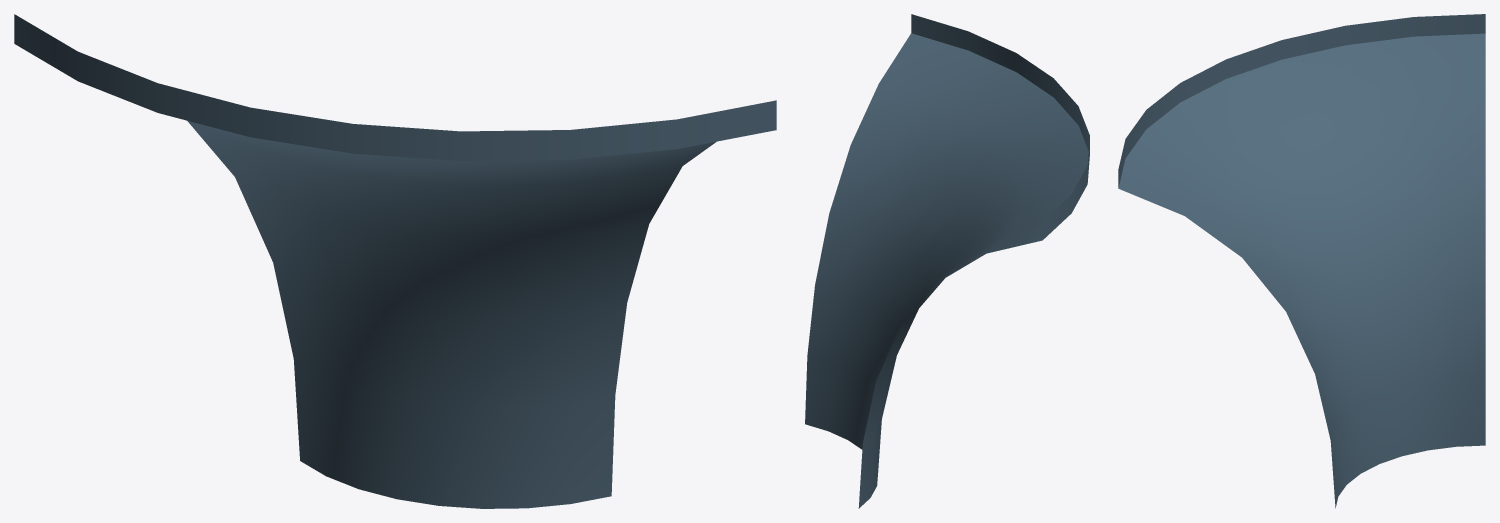
Rendered from W1_WallCornerS_Round1_TopCurvedA.fbx.
3 views of the same model, side by side, from view 1: azimuth 30°, elevation 25°; view 2: azimuth 150°, elevation 25°; view 3: azimuth 270°, elevation 25° (orthographic). The views are drawn at different scales.
Parts seen in each view (by area): view 1: W1_WallCornerS_Round1_TopCurvedA.001; view 2: W1_WallCornerS_Round1_TopCurvedA.001; view 3: W1_WallCornerS_Round1_TopCurvedA.001.
Boxes of the visible parts, x1,y1,x2,y2 form: W1_WallCornerS_Round1_TopCurvedA.001: (14, 14, 776, 508); W1_WallCornerS_Round1_TopCurvedA.001: (805, 14, 1089, 508); W1_WallCornerS_Round1_TopCurvedA.001: (1118, 14, 1485, 508).
Size of the model in its own units: 0.4894 by 0.5 by 0.4894.
